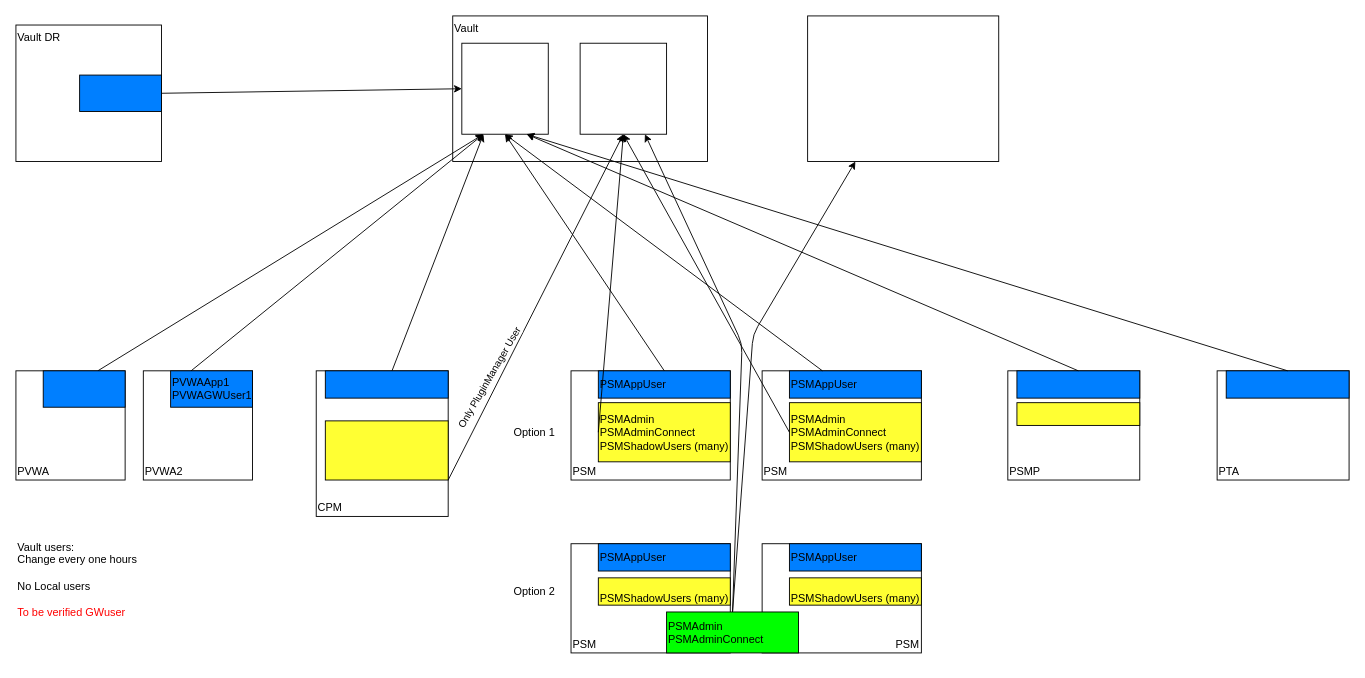
Some shapes in this 1365 by 678 pixel diagram are drawn without their labels. The shapes that lost their labels are listed below. From the top down, each one's centre as x and y in pixels, then its label:
the point at 120,92: DR
the point at 504,88: Vault Directory
the point at 623,88: Safes
the point at 903,88: Active Directory
the point at 83,388: PVWAApp PVWAGWUser
the point at 386,384: PasswordManager Backup
the point at 1078,384: PSMPAppUser
the point at 1287,384: PTAUser
the point at 1078,413: proxymng
the point at 386,450: PasswordManagerUser PasswordManager PluginManager
